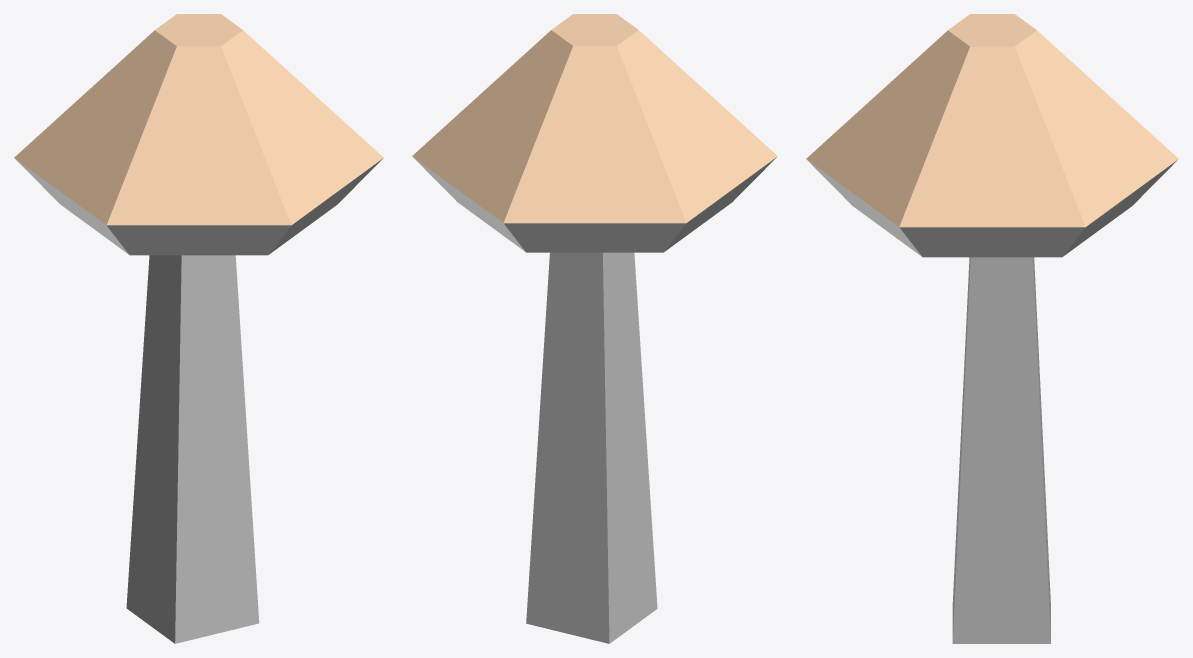
Rendered from mushroom_tanTall.glb.
The picture shows the model from 3 angles, left to right: view 1: azimuth 30°, elevation 25°; view 2: azimuth 150°, elevation 25°; view 3: azimuth 270°, elevation 25°; orthographic projection.
Visible parts, largest first — view 1: mushroom_tanTall; view 2: mushroom_tanTall; view 3: mushroom_tanTall.
Boxes of the visible parts, x1,y1,x2,y2 form: mushroom_tanTall: (14,14,383,643); mushroom_tanTall: (412,14,777,643); mushroom_tanTall: (806,14,1178,643).
Bounding box in the file's own units: 0.1482 × 0.3006 × 0.1711.
